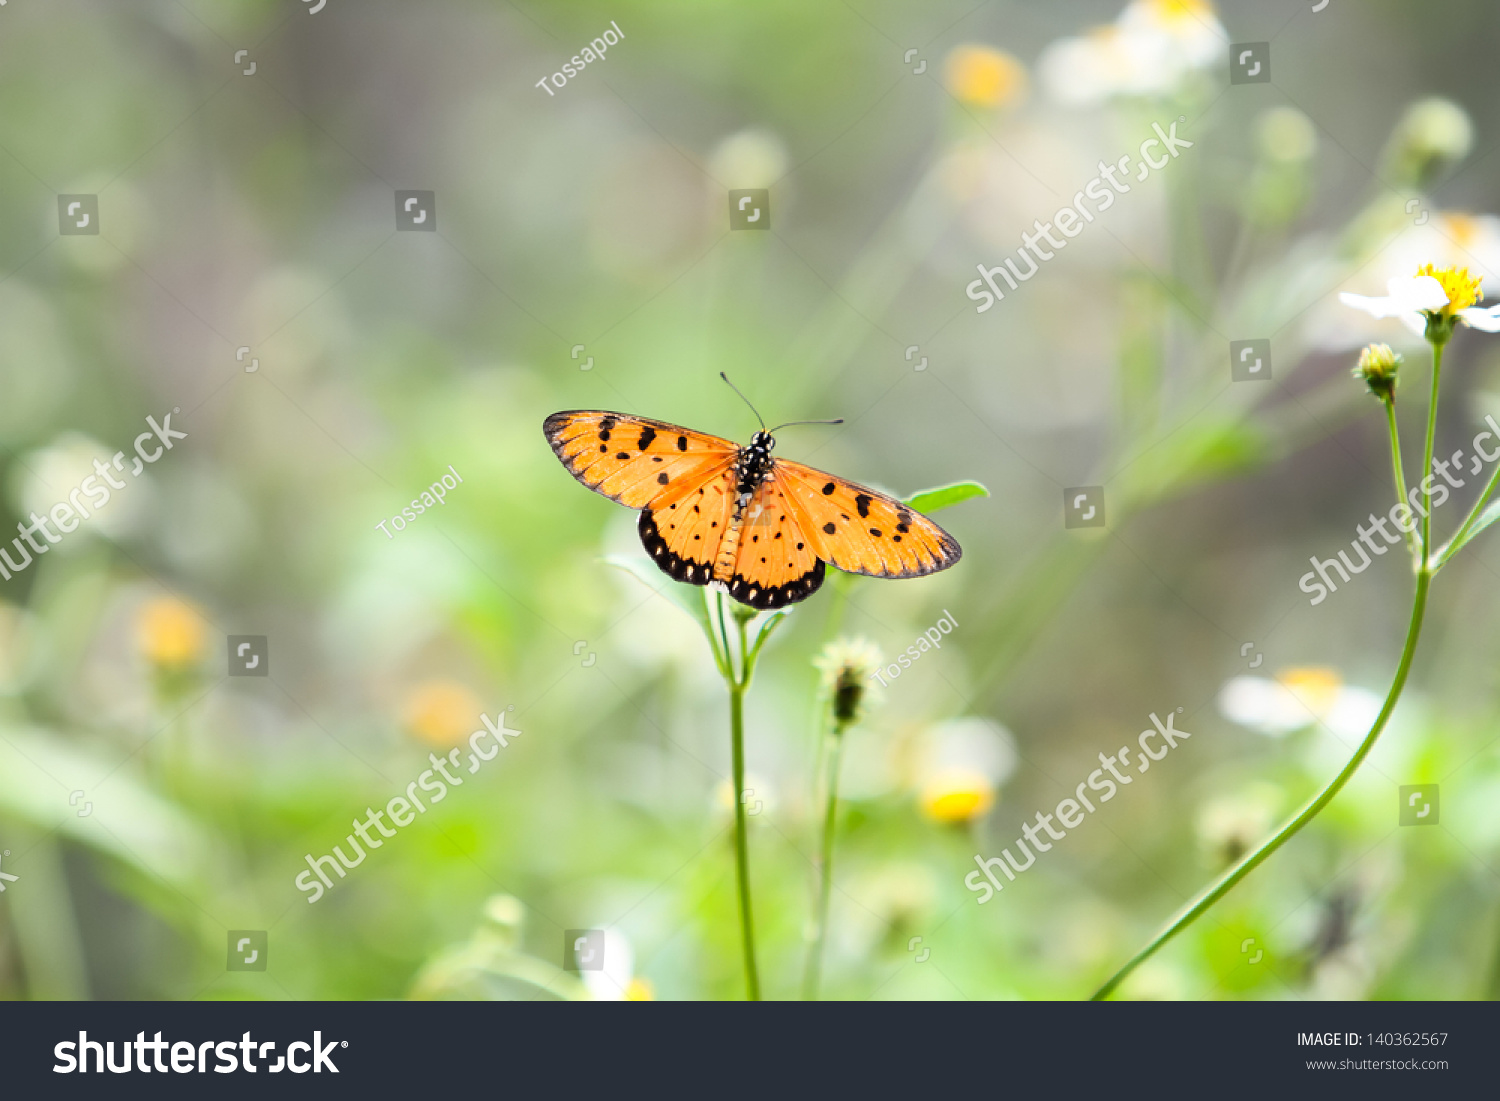Argyreus hyperbius: (528, 355, 978, 617)
butterfly: (529, 357, 979, 620)
